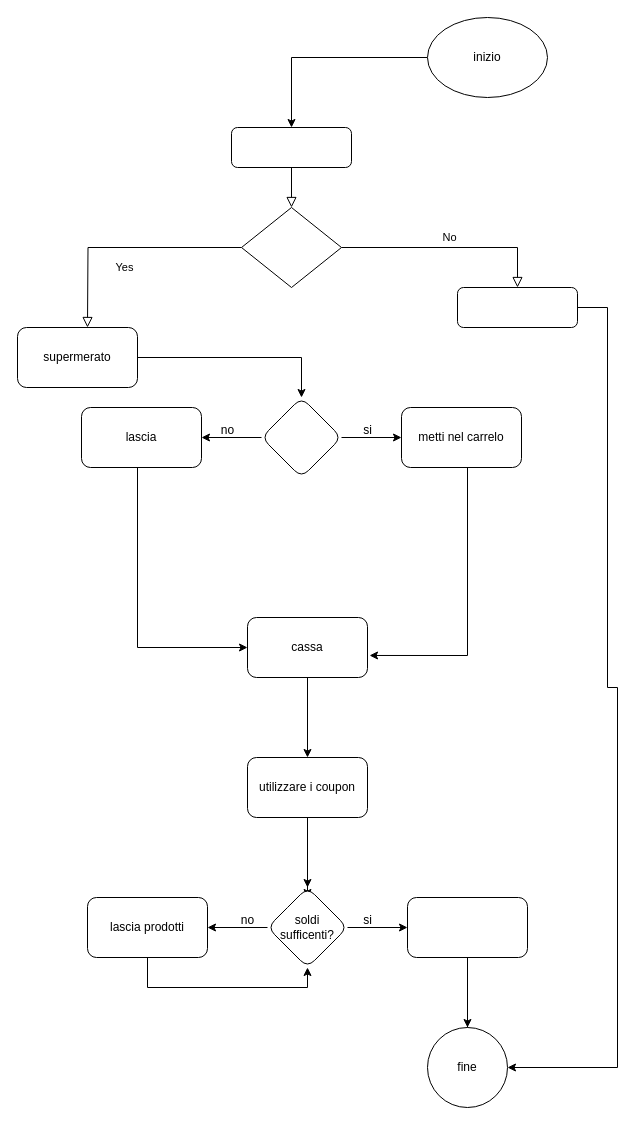
Image size: 643x1125. Some labels were removed from this diagram. The centre of each missing label's shape, as x and y in pixels:
bene: the point at 517,307
controllo frigo: the point at 291,147
frigo vuoto: the point at 291,247
il prodotto è nella lista?: the point at 301,437
paga: the point at 467,927
